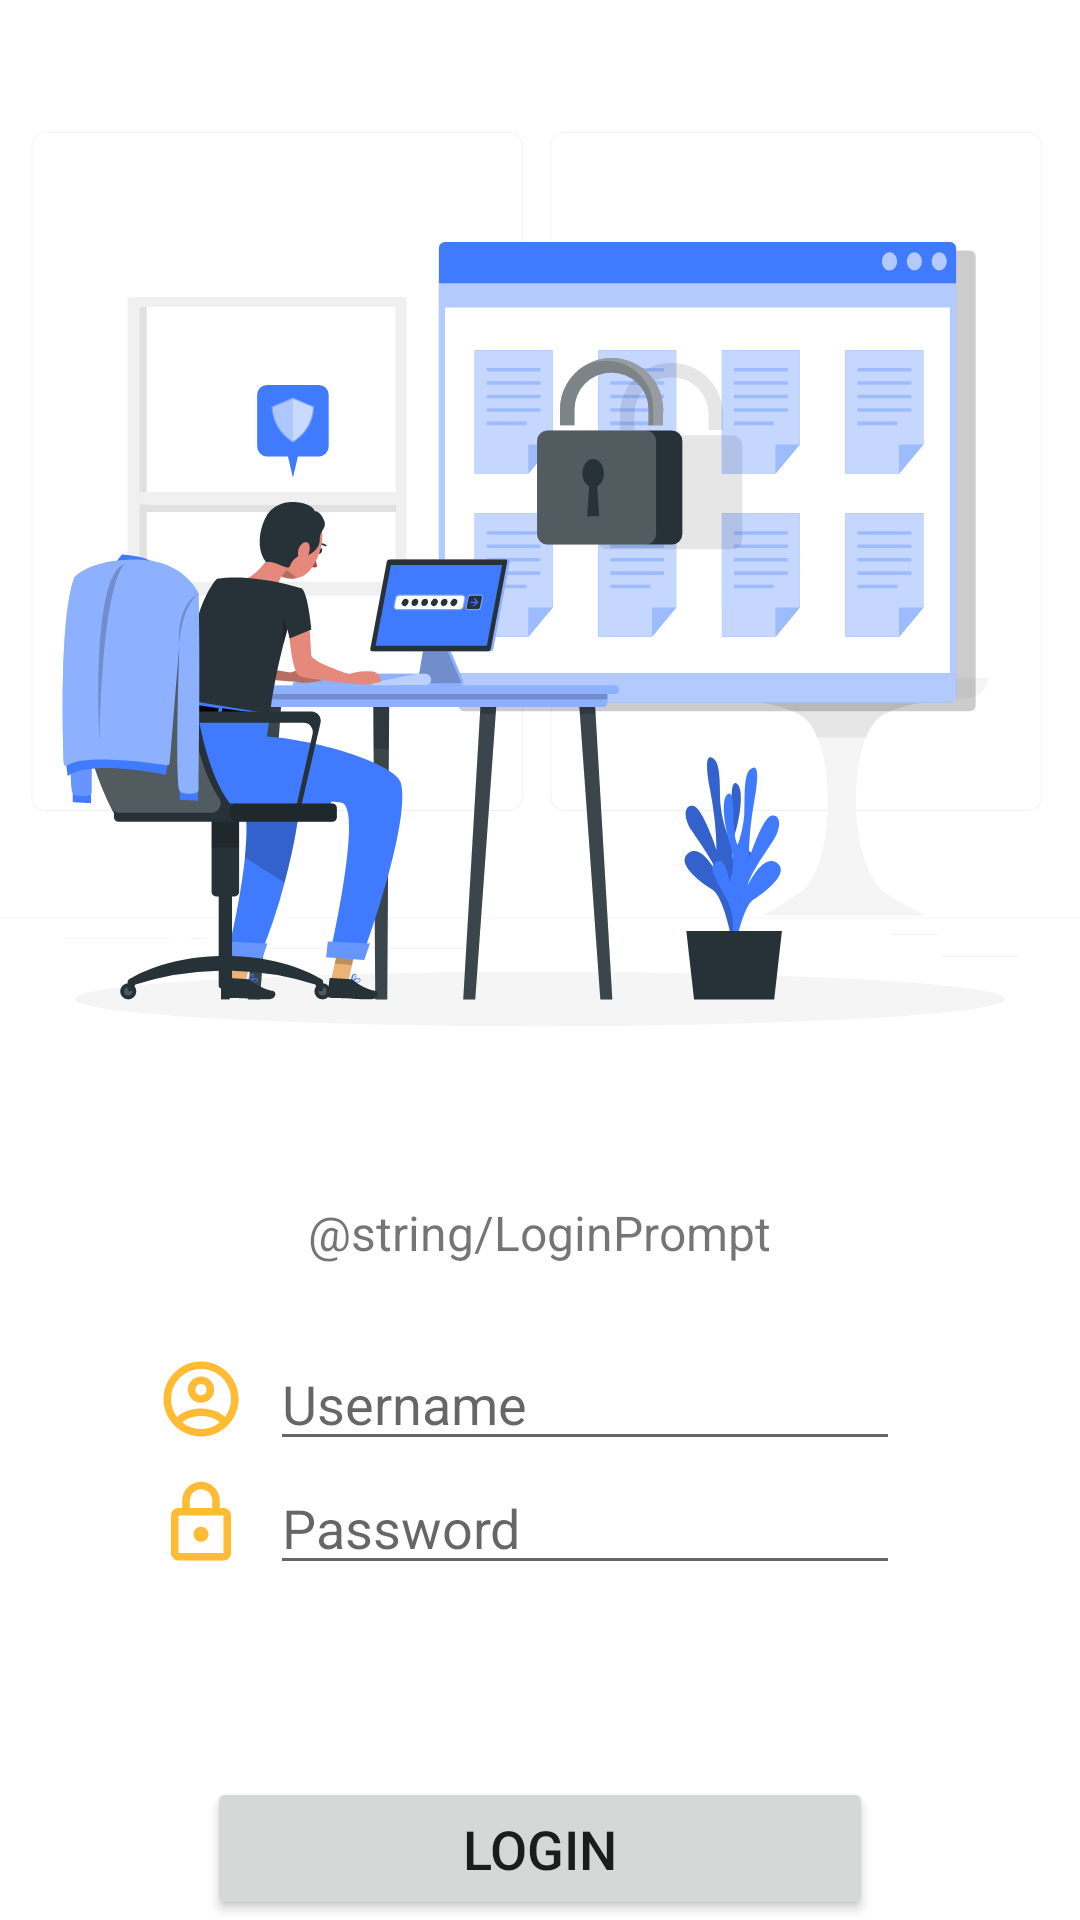

Named icons in this screenshot (1080 x 1920) and their bounding boxes, Rect(x1, y1, x2, y2):
account circle: Rect(163, 1361, 239, 1437)
lock: Rect(171, 1481, 231, 1561)
